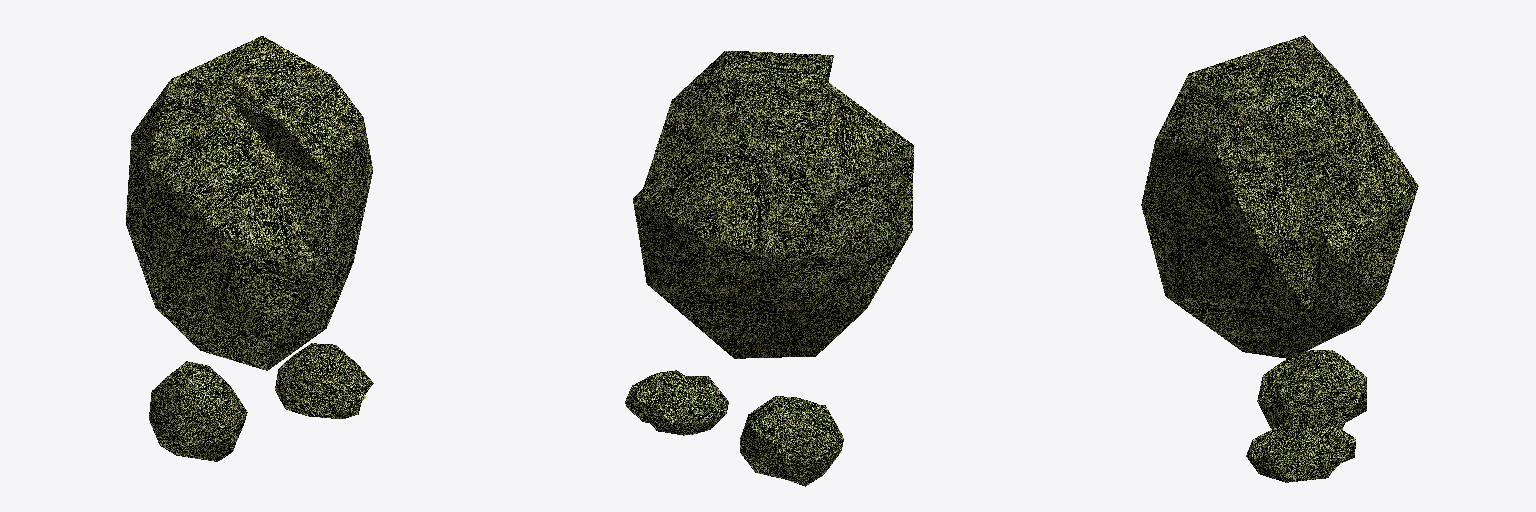
The picture shows the model from 3 angles: view 1: azimuth 30°, elevation 25°; view 2: azimuth 150°, elevation 25°; view 3: azimuth 270°, elevation 25°; orthographic projection.
Visible parts, largest first — view 1: Icosphere.000; view 2: Icosphere.000; view 3: Icosphere.000.
Part boxes in pixels (x1,y1,x2,y2): Icosphere.000: (126,36,373,461); Icosphere.000: (625,51,913,486); Icosphere.000: (1141,35,1418,482).
Bounding box in the file's own units: 0.1351 × 0.2169 × 0.1359.
Materials: 1 (1 with a texture image).